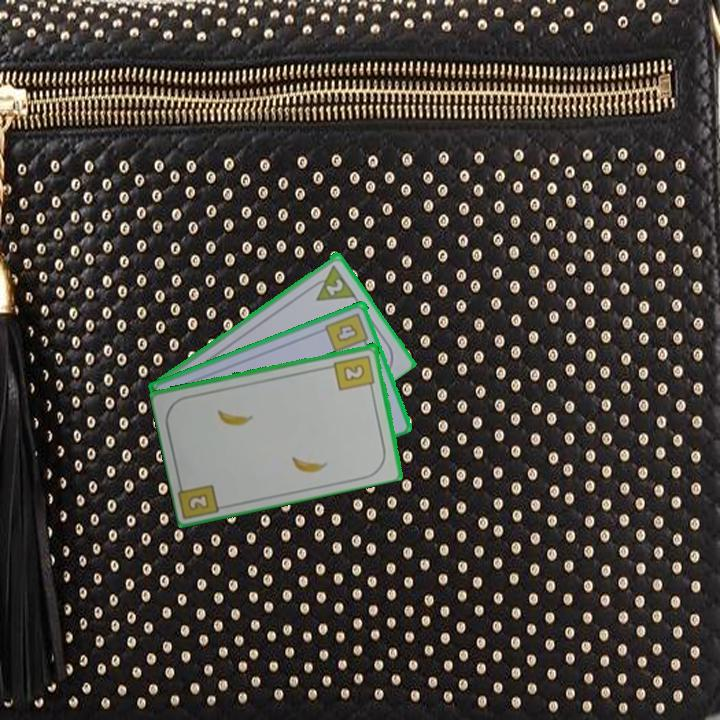2b: (331, 351, 378, 393), (184, 490, 212, 514)
2p: (305, 261, 358, 304)
4b: (322, 309, 372, 355)
